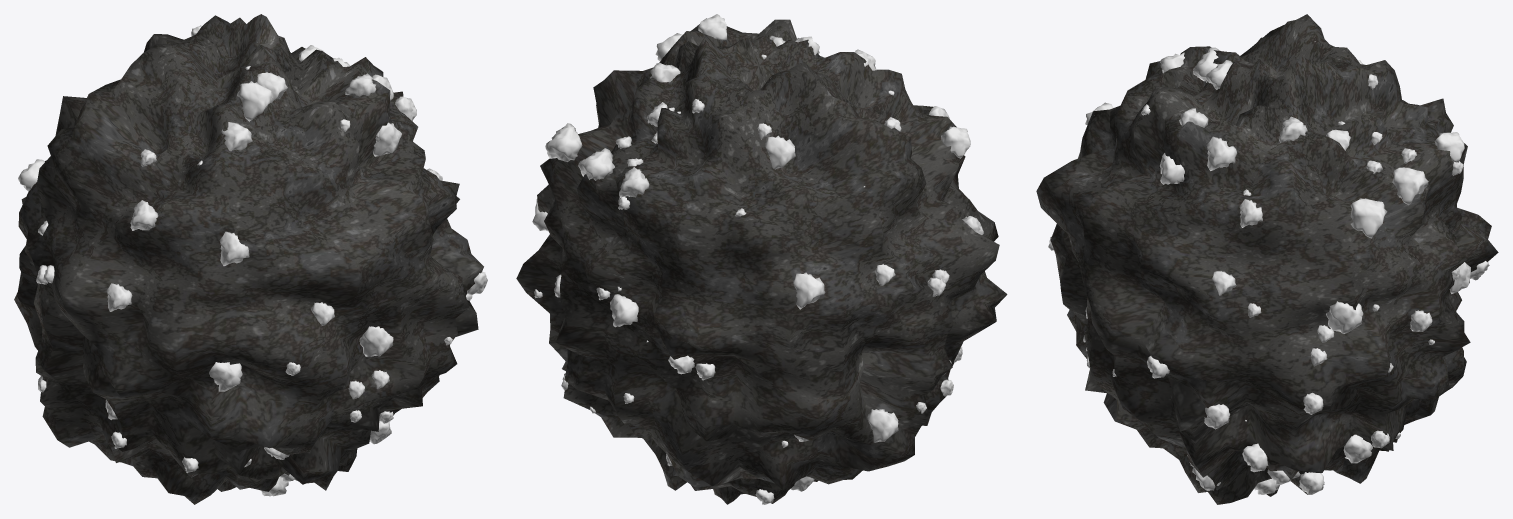
The model's file is asteroidGold.fbx.
3 renders of one model, left to right at view 1: azimuth 30°, elevation 25°; view 2: azimuth 150°, elevation 25°; view 3: azimuth 270°, elevation 25°, orthographic. The views are drawn at different scales.
Visible parts, largest first — view 1: Sphere, Icosphere.039, Icosphere.080, Icosphere.020, Icosphere.033, Icosphere.026, Icosphere.096, Icosphere.031, Icosphere.089, Icosphere.041; view 2: Sphere, Icosphere.085, Icosphere.048, Icosphere.103, Icosphere.005, Icosphere.065, Icosphere.100, Icosphere.031, Icosphere.098, Icosphere.012; view 3: Sphere, Icosphere.085, Icosphere.103, Icosphere.087, Icosphere.013, Icosphere.016, Icosphere.098, Icosphere.026, Icosphere.095, Icosphere.043, Icosphere.091, Icosphere.027.
Part boxes in pixels (<box>): Sphere: <box>14,14,483,504</box>; Icosphere.039: <box>237,81,273,121</box>; Icosphere.080: <box>359,326,393,356</box>; Icosphere.020: <box>209,362,242,391</box>; Icosphere.033: <box>219,231,249,265</box>; Icosphere.026: <box>373,122,401,156</box>; Icosphere.096: <box>221,122,252,151</box>; Icosphere.031: <box>130,200,158,230</box>; Icosphere.089: <box>106,283,132,311</box>; Icosphere.041: <box>257,72,287,102</box>; Sphere: <box>516,18,1007,504</box>; Icosphere.085: <box>545,123,582,161</box>; Icosphere.048: <box>793,272,825,309</box>; Icosphere.103: <box>578,148,614,180</box>; Icosphere.005: <box>867,409,898,442</box>; Icosphere.065: <box>765,135,795,169</box>; Icosphere.100: <box>610,294,638,327</box>; Icosphere.031: <box>941,126,970,158</box>; Icosphere.098: <box>619,167,649,197</box>; Icosphere.012: <box>698,14,726,40</box>; Sphere: <box>1036,14,1498,504</box>; Icosphere.085: <box>1350,198,1387,238</box>; Icosphere.103: <box>1392,167,1428,205</box>; Icosphere.087: <box>1326,301,1363,333</box>; Icosphere.013: <box>1206,136,1237,170</box>; Icosphere.016: <box>1343,434,1372,463</box>; Icosphere.098: <box>1434,132,1464,162</box>; Icosphere.026: <box>1160,153,1184,184</box>; Icosphere.095: <box>1242,443,1268,472</box>; Icosphere.043: <box>1204,404,1230,429</box>; Icosphere.091: <box>1239,199,1262,227</box>; Icosphere.027: <box>1278,116,1307,142</box>.
Bounding box in the file's own units: 226 × 235 × 219.
Materials: 2 (1 with a texture image).
